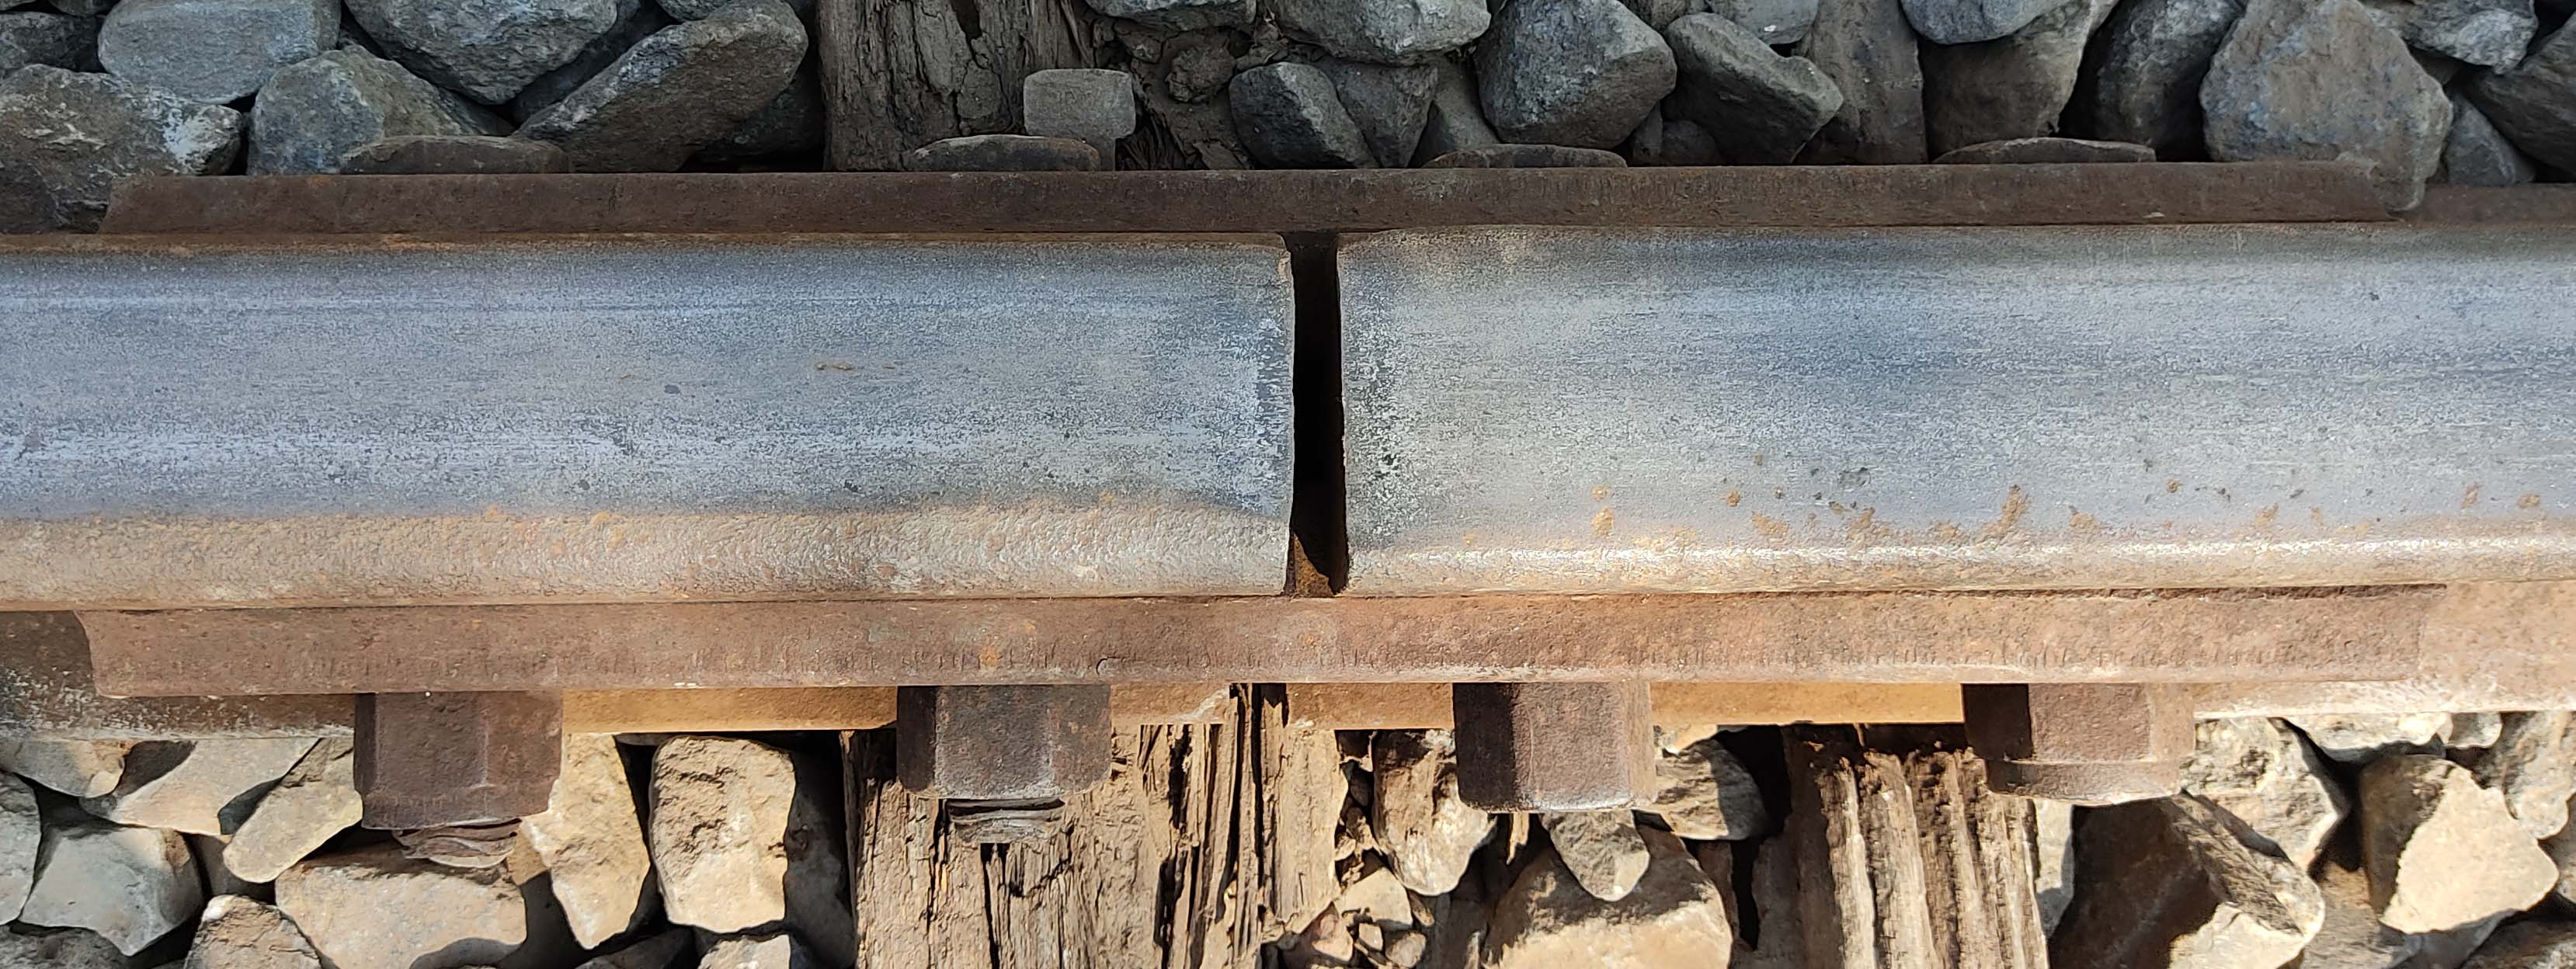error2: (1252, 205, 1416, 636)
